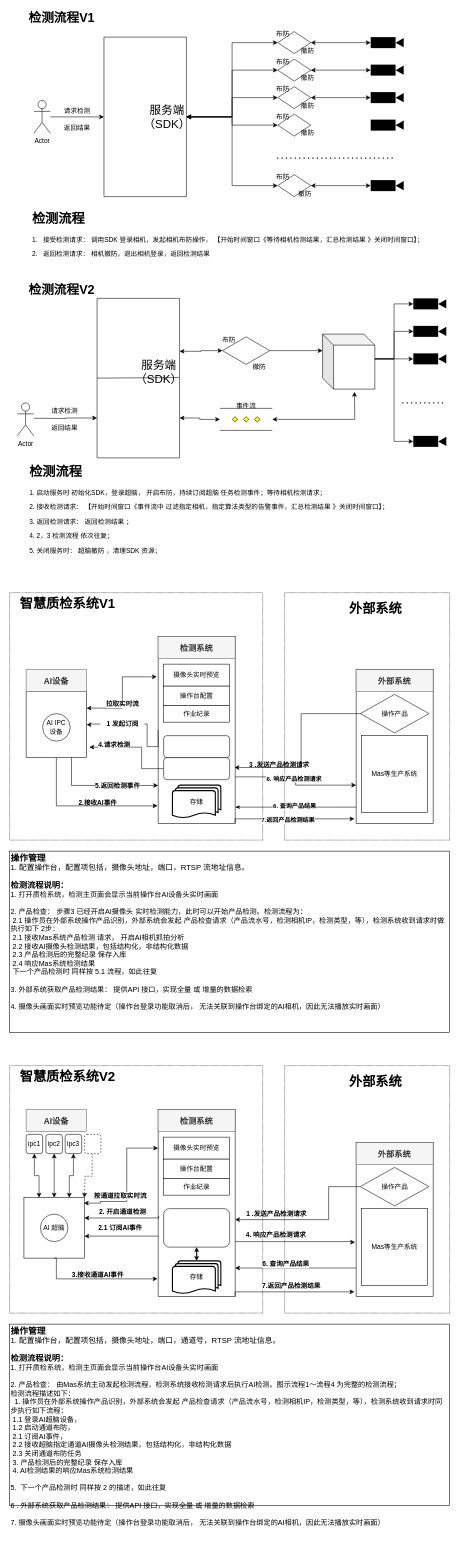
Some shapes in this 459 by 1559 pixel diagram are drawn without their labels. The box of each missing label's shape, as (x1, y1, x2, y2) in pixels:
ipcN: (84, 1134, 101, 1154)
启动/关闭检测: (163, 735, 230, 758)
启动抓拍: (163, 757, 230, 780)
登录设备 启动布防 订阅AI事件 关闭布防: (163, 1208, 230, 1247)
超脑: (322, 334, 375, 389)
